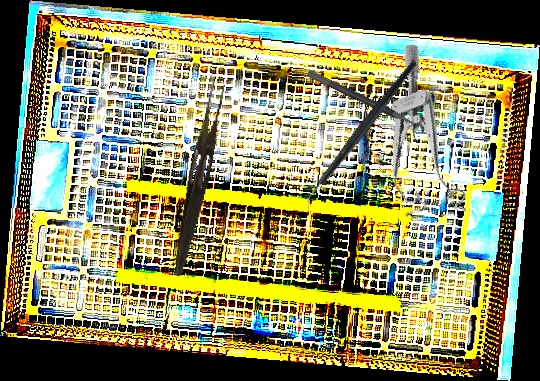Chopper: (268, 58, 455, 216)
Dressing Forceps: (171, 80, 226, 279)
Fixation Ring: (301, 68, 427, 144)
Speculum: (345, 40, 483, 235)
